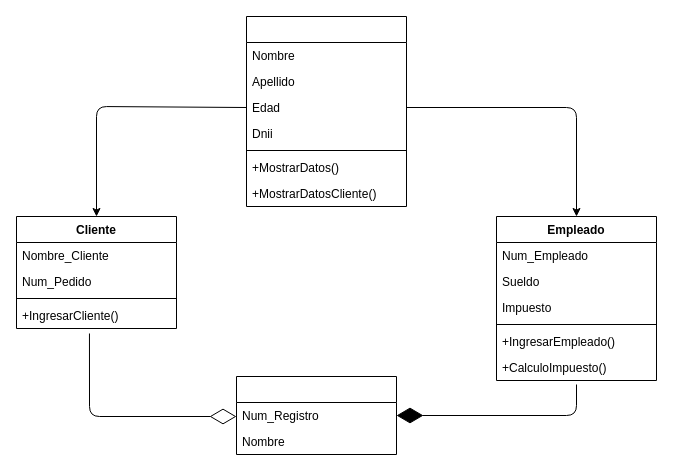
This 673x471 diagram has some shape labels left out. The shapes that lost their labels are listed below. From the top down, each one's box as (x1, y1, x2, y2) in pixels, then its label:
(246, 16, 406, 206): Persona
(236, 376, 396, 454): Empresa
